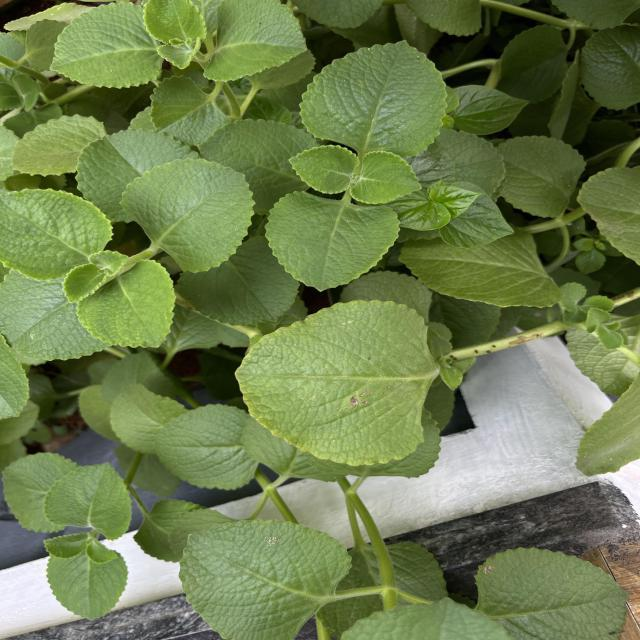Plectranthus barbatus: (232, 298, 432, 467), (176, 519, 353, 640), (297, 38, 448, 158), (464, 539, 628, 640), (118, 158, 256, 274), (263, 190, 402, 292), (396, 238, 565, 310), (75, 130, 198, 224), (0, 188, 116, 283), (48, 1, 165, 90), (153, 403, 260, 492), (76, 258, 176, 350), (203, 0, 311, 83), (494, 134, 588, 220), (41, 462, 132, 542), (40, 550, 129, 624), (9, 114, 106, 180), (0, 452, 75, 535), (148, 76, 228, 148), (109, 382, 188, 454), (577, 26, 640, 114), (351, 150, 424, 206), (287, 144, 360, 196)
